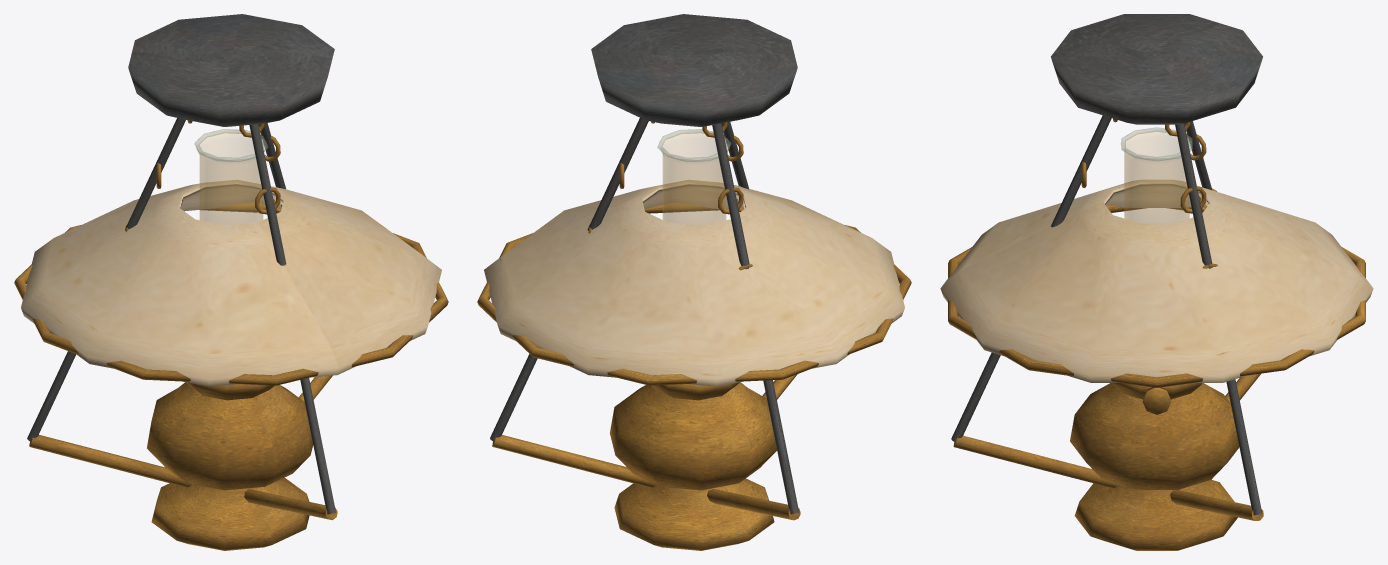
File: city1880-shop-pendant-lit.gltf
3 views of the same model, side by side, from view 1: azimuth 30°, elevation 25°; view 2: azimuth 150°, elevation 25°; view 3: azimuth 270°, elevation 25° (orthographic).
Parts seen in each view (by area): view 1: Hanging kerosene shop lamp · lit; view 2: Hanging kerosene shop lamp · lit; view 3: Hanging kerosene shop lamp · lit.
Boxes of the visible parts, bbox=[...] form: Hanging kerosene shop lamp · lit: bbox=[14, 14, 448, 550]; Hanging kerosene shop lamp · lit: bbox=[477, 14, 911, 550]; Hanging kerosene shop lamp · lit: bbox=[940, 14, 1373, 550].
Size of the model in its own units: 0.55 by 0.646 by 0.542.
Materials: 4 (1 with a texture image).
